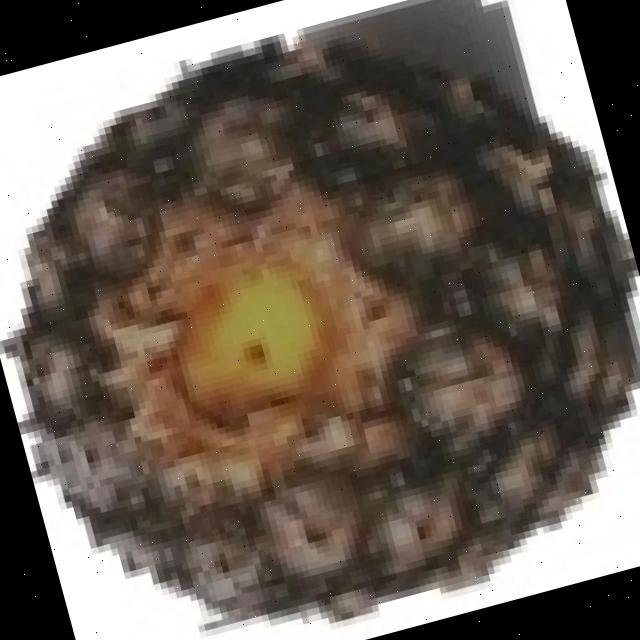pineapple: (20, 2, 635, 634)
